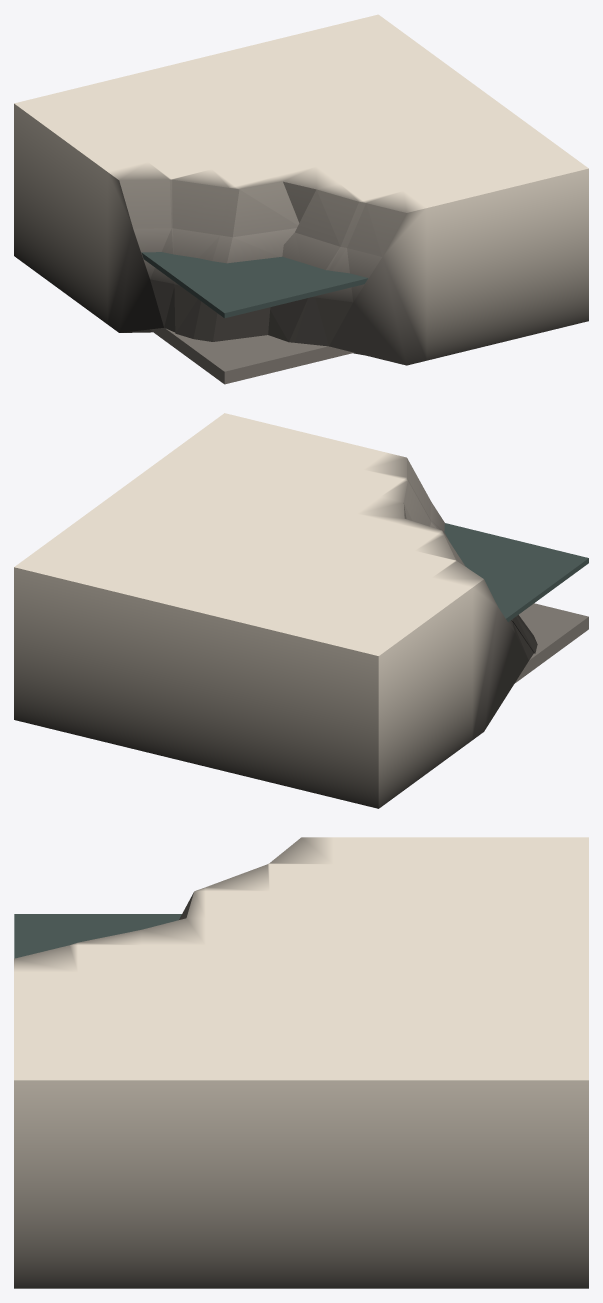
File: SM_VKI_Ground_Stream_XOOO_Q10.fbx
The picture shows the model from 3 angles, top to bottom: view 1: azimuth 30°, elevation 25°; view 2: azimuth 150°, elevation 25°; view 3: azimuth 270°, elevation 25°; orthographic projection. The views are drawn at different scales.
Visible parts, largest first — view 1: SM_VKI_Ground_Stream_XOOO_Q10.001; view 2: SM_VKI_Ground_Stream_XOOO_Q10.001; view 3: SM_VKI_Ground_Stream_XOOO_Q10.001.
Boxes of the visible parts, x1,y1,x2,y2 form: SM_VKI_Ground_Stream_XOOO_Q10.001: [14, 14, 588, 384]; SM_VKI_Ground_Stream_XOOO_Q10.001: [14, 413, 588, 808]; SM_VKI_Ground_Stream_XOOO_Q10.001: [14, 837, 588, 1288].
Size of the model in its own units: 1.5 by 0.6 by 1.5.
